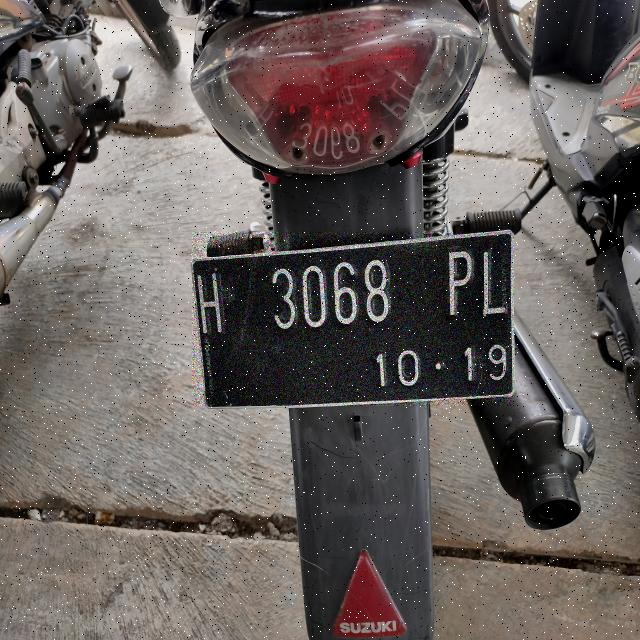plate: (193, 232, 513, 405)
